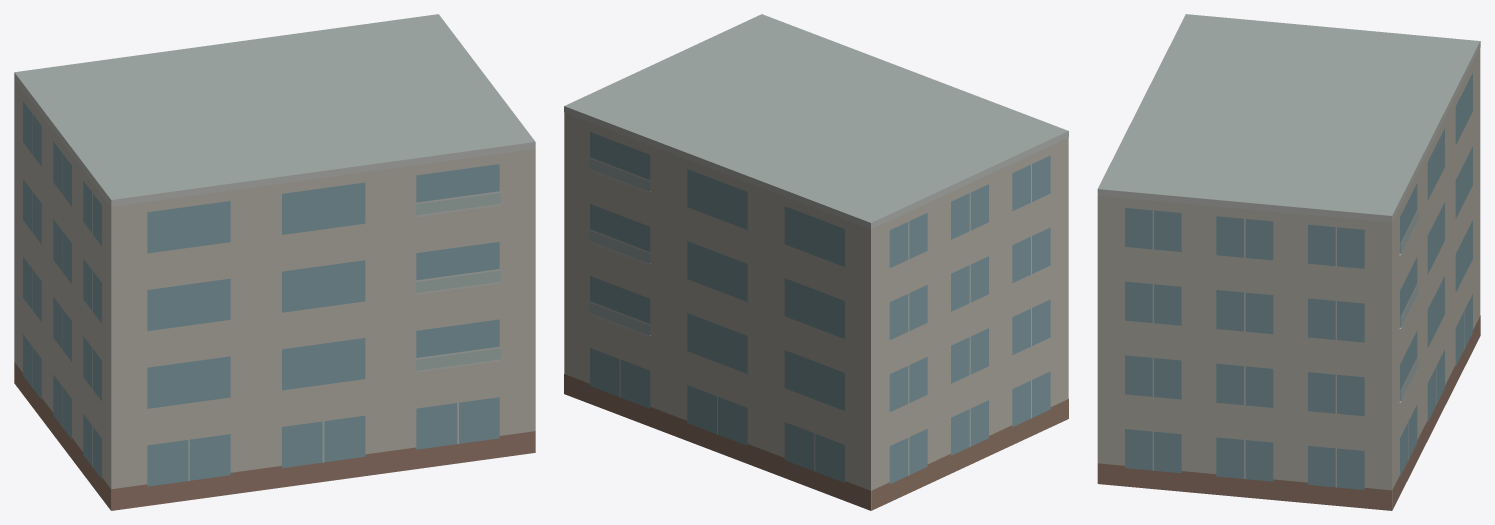
File: survey-upis-32843282.glb
3 renders of one model, left to right at view 1: azimuth 30°, elevation 25°; view 2: azimuth 150°, elevation 25°; view 3: azimuth 270°, elevation 25°, orthographic. The views are drawn at different scales.
Parts seen in each view (by area): view 1: survey-upis-32843282.tmp; view 2: survey-upis-32843282.tmp; view 3: survey-upis-32843282.tmp.
Part boxes in pixels (<box>): survey-upis-32843282.tmp: <box>14,14,535,510</box>; survey-upis-32843282.tmp: <box>564,14,1068,510</box>; survey-upis-32843282.tmp: <box>1097,14,1480,510</box>.
Bounding box in the file's own units: 16.16 × 11 × 12.95.
